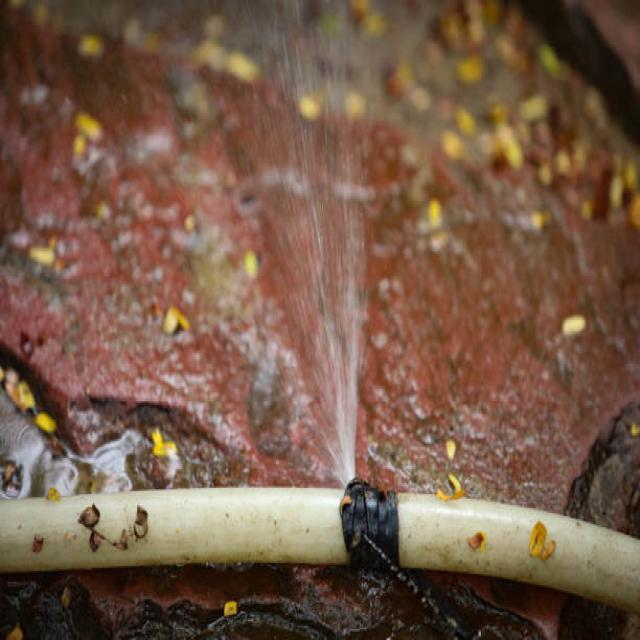pipe burst: (260, 0, 360, 491)
